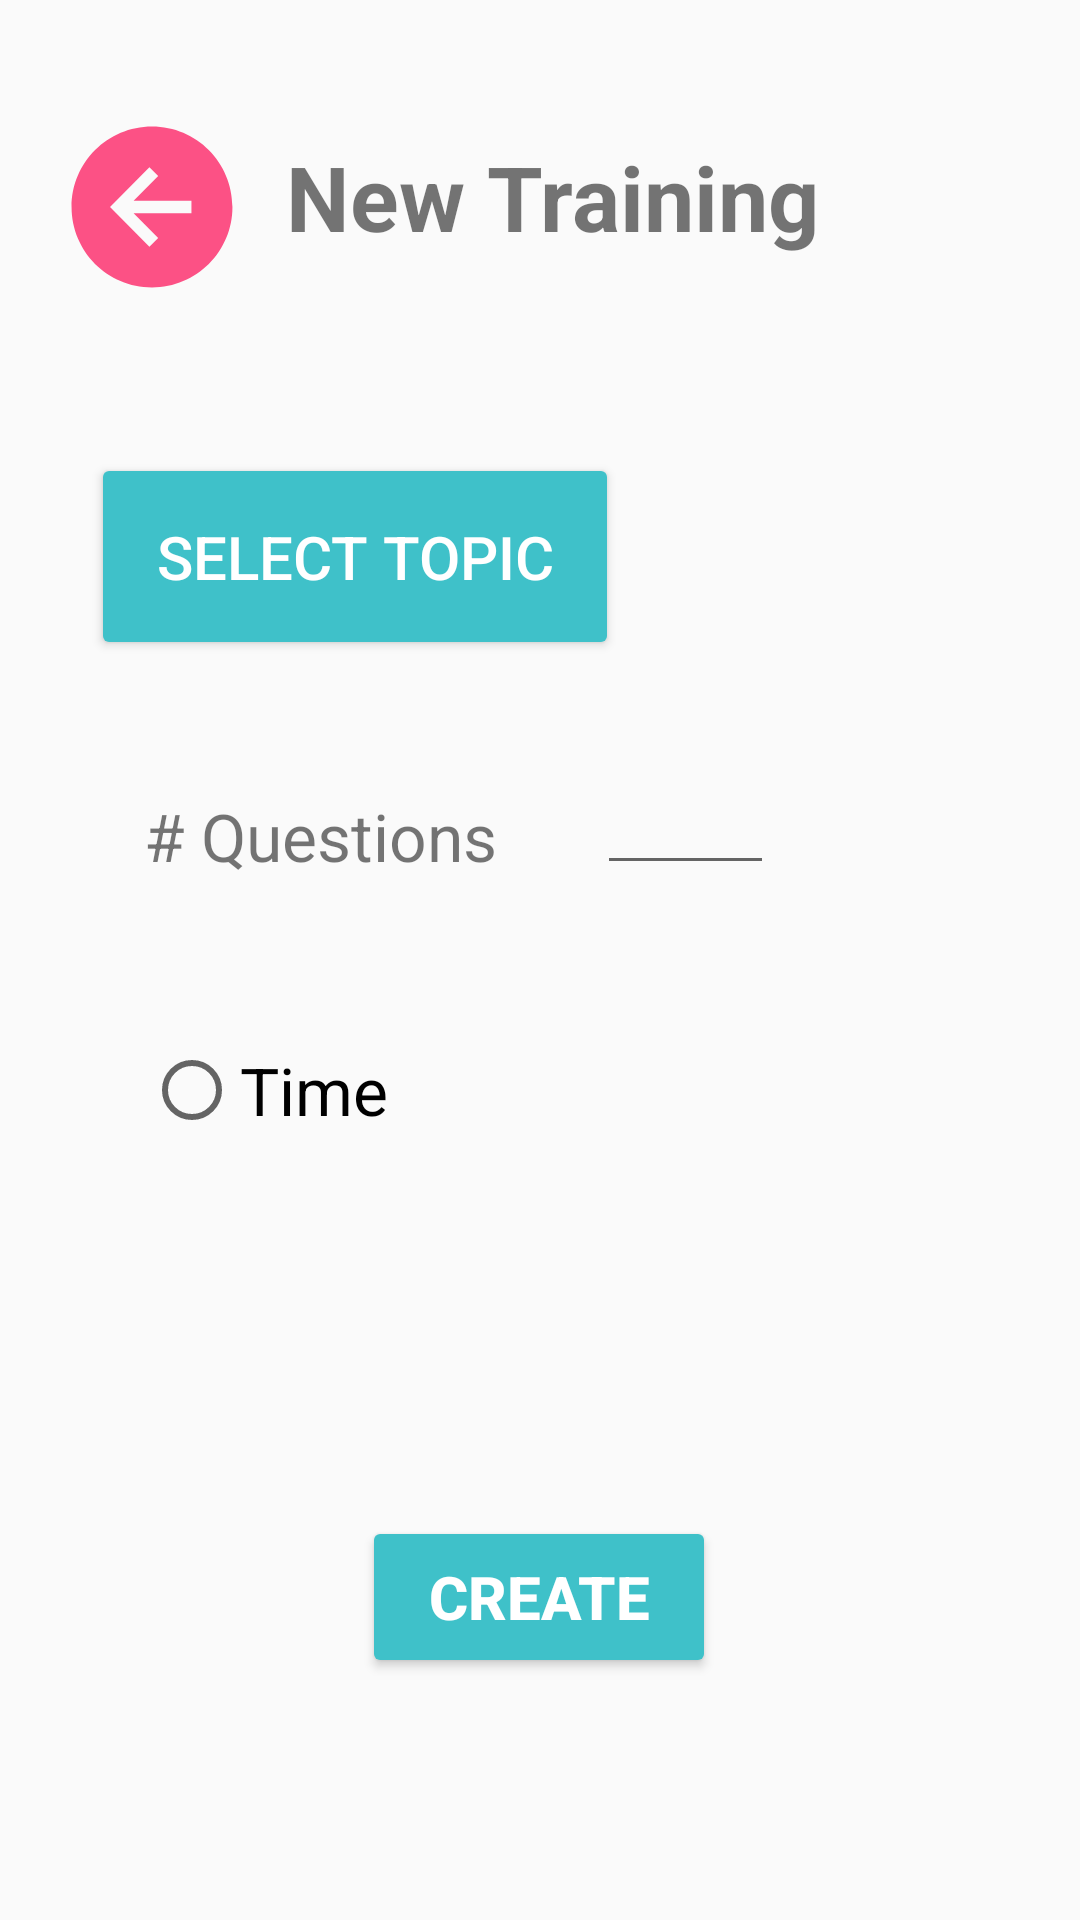

Icon click points for this 1080 x 1920 phone screenshot, format (x=x, y=y):
back: (x=152, y=207)
